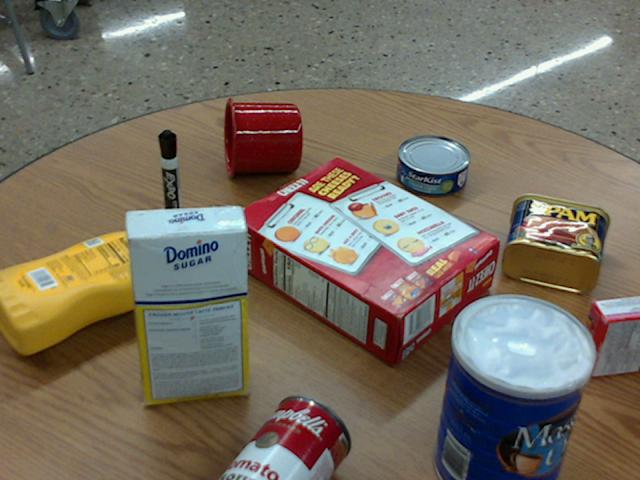cracker_box: (231, 157, 497, 360)
gelatin_box: (575, 295, 639, 377)
large_marker: (158, 130, 182, 232)
master_chef_can: (433, 294, 593, 479)
mug: (223, 97, 302, 177)
mustard_bottle: (0, 231, 189, 353)
potted_meat_can: (502, 192, 609, 293)
sugar_box: (125, 205, 246, 403)
tomato_soup_can: (219, 394, 351, 479)
tuna_fish_can: (397, 135, 470, 195)
